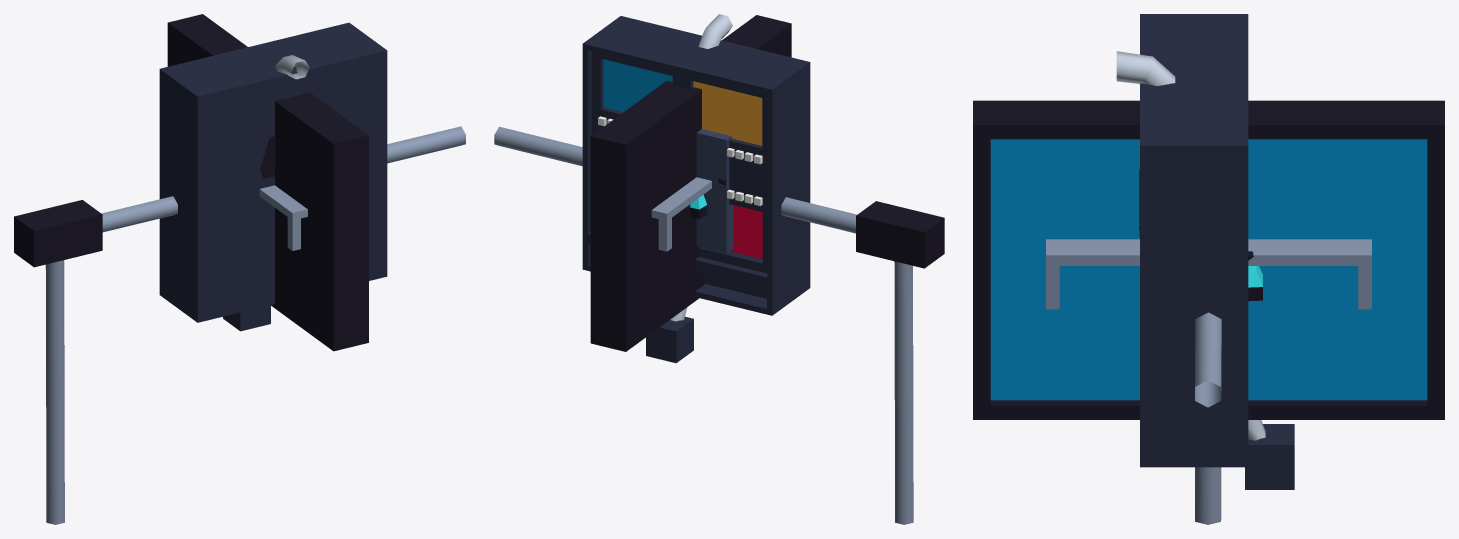
File: room.glb
3 renders of one model, left to right at view 1: azimuth 30°, elevation 25°; view 2: azimuth 150°, elevation 25°; view 3: azimuth 270°, elevation 25°, orthographic. The views are drawn at different scales.
Visible parts, largest first — view 1: MachineThing.001, Screen.001, AngledPipes, BackPipe, Table; view 2: MachineThing.001, Screen.001, AngledPipes, Cabinet, BackPipe, Table; view 3: Screen.001, MachineThing.001, Table, BackPipe, AngledPipes, AntiGravChair.
Part boxes in pixels (x1=…): MachineThing.001: x1=159, y1=22, x2=387, y2=322; Screen.001: x1=167, y1=14, x2=368, y2=351; AngledPipes: x1=14, y1=126, x2=465, y2=524; BackPipe: x1=223, y1=55, x2=309, y2=331; Table: x1=259, y1=185, x2=307, y2=250; MachineThing.001: x1=582, y1=16, x2=810, y2=315; Screen.001: x1=590, y1=15, x2=791, y2=351; AngledPipes: x1=494, y1=126, x2=944, y2=524; Cabinet: x1=696, y1=129, x2=733, y2=253; BackPipe: x1=646, y1=14, x2=732, y2=363; Table: x1=651, y1=177, x2=711, y2=251; Screen.001: x1=973, y1=100, x2=1444, y2=419; MachineThing.001: x1=1140, y1=14, x2=1248, y2=467; Table: x1=1046, y1=239, x2=1371, y2=309; BackPipe: x1=1116, y1=51, x2=1294, y2=489; AngledPipes: x1=1195, y1=312, x2=1221, y2=524; AntiGravChair: x1=1139, y1=169, x2=1262, y2=301.
Bounding box in the file's own units: 13.23 × 12.47 × 8.71.
Materials: 3 (3 with a texture image).
